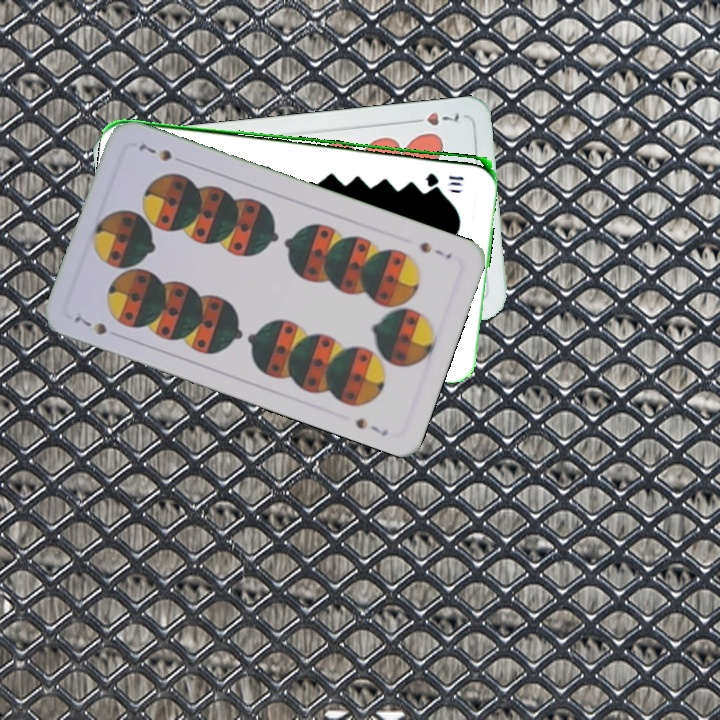G10: (422, 169, 466, 188)
H7: (406, 108, 463, 128)
S7: (70, 312, 110, 338), (416, 237, 455, 262)
